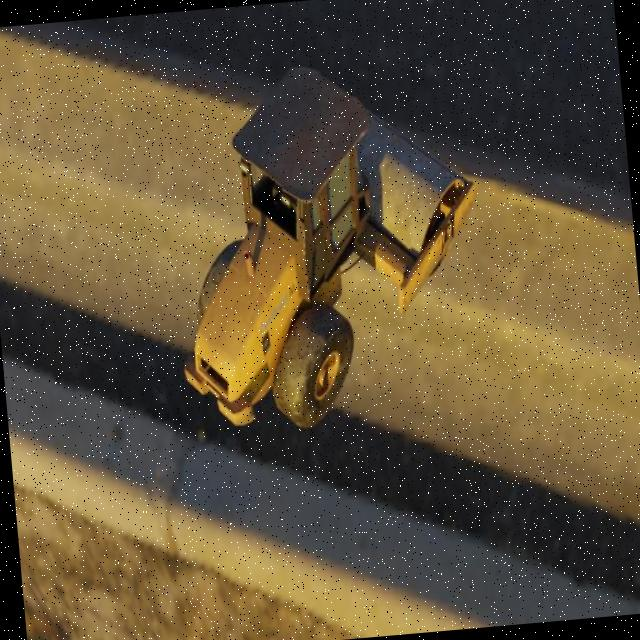Roller: (158, 50, 494, 437)
